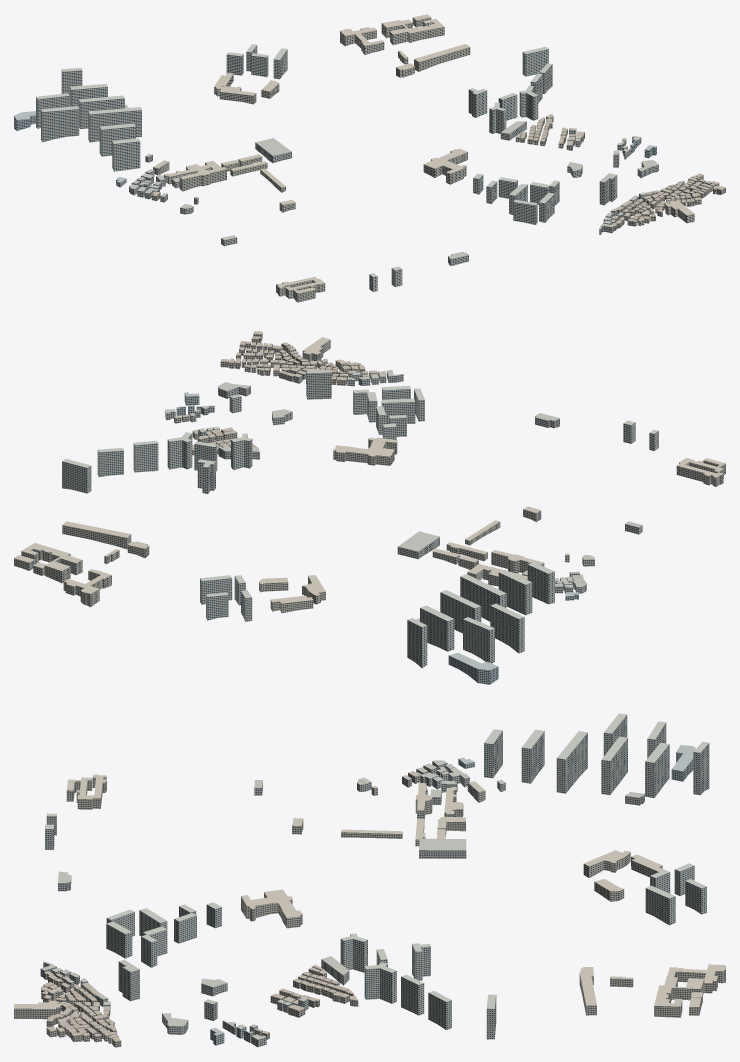
The model's file is city_-8_4.glb.
The picture shows the model from 3 angles, top to bottom: view 1: azimuth 30°, elevation 25°; view 2: azimuth 150°, elevation 25°; view 3: azimuth 270°, elevation 25°; orthographic projection. The views are drawn at different scales.
Bounding box in the file's own units: 1037 × 101 × 1078.
5 materials, 5 textured.
